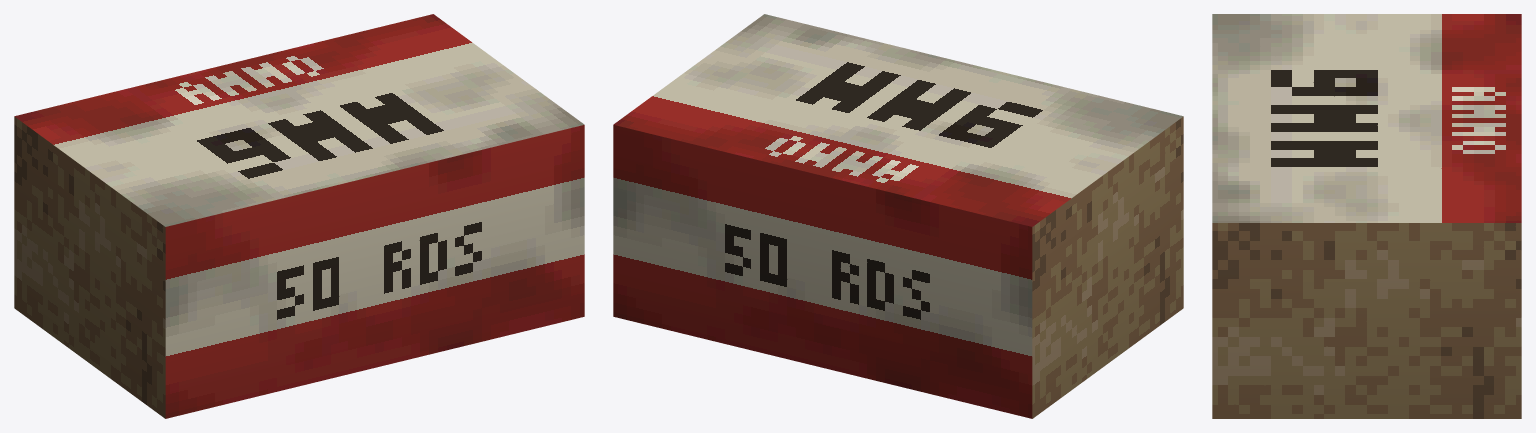
Rendered from ammo_9mm_model.glb.
The picture shows the model from 3 angles, left to right: view 1: azimuth 30°, elevation 25°; view 2: azimuth 150°, elevation 25°; view 3: azimuth 270°, elevation 25°; orthographic projection. The views are drawn at different scales.
Parts seen in each view (by area): view 1: ammo_9mm; view 2: ammo_9mm; view 3: ammo_9mm.
Boxes of the visible parts, x1,y1,x2,y2 form: ammo_9mm: [14, 14, 584, 418]; ammo_9mm: [613, 14, 1183, 418]; ammo_9mm: [1212, 14, 1521, 418].
Bounding box in the file's own units: 0.08 × 0.035 × 0.05.
Materials: 1 (1 with a texture image).
